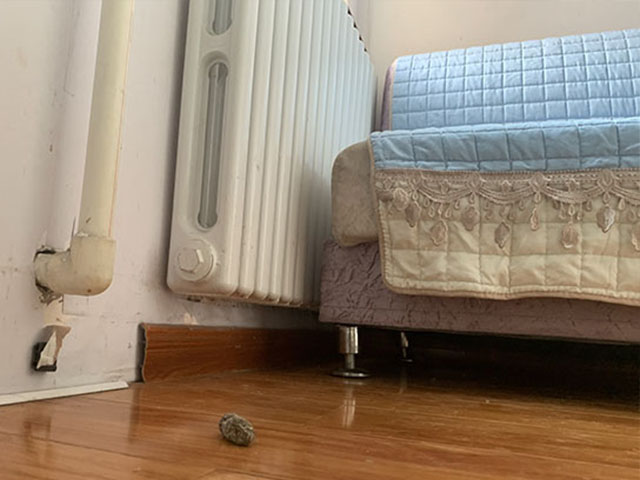feces: (216, 411, 255, 448)
sofa: (316, 27, 640, 384)
